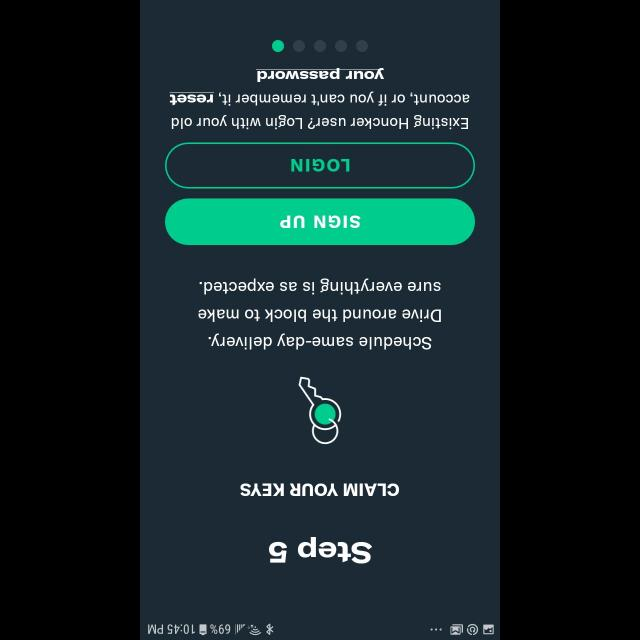image: (298, 376, 342, 444)
pageindicator: (272, 40, 368, 52)
text: (170, 68, 470, 130), (198, 278, 442, 350), (268, 536, 372, 564), (240, 482, 400, 496)
textbutton: (164, 198, 476, 246), (165, 143, 475, 190)
uppertaskbar: (140, 618, 500, 640)
